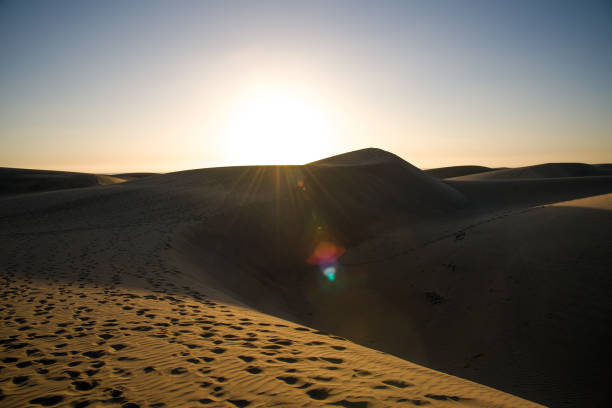human_footprint: (0, 281, 485, 406)
